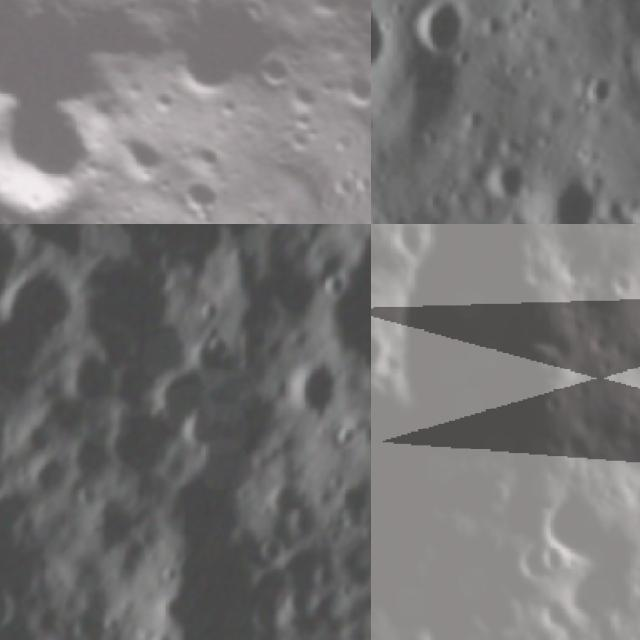crater: (0, 69, 125, 224), (302, 224, 371, 451), (82, 393, 198, 498), (0, 248, 99, 368), (156, 15, 262, 120), (0, 474, 70, 623), (130, 346, 226, 438), (270, 344, 358, 435), (42, 332, 130, 421), (541, 485, 626, 573), (250, 250, 335, 336), (74, 482, 158, 565), (104, 118, 178, 192), (270, 532, 342, 606), (19, 442, 90, 509), (403, 0, 472, 66), (543, 165, 612, 224), (258, 466, 318, 528), (162, 169, 221, 224), (476, 153, 532, 210), (179, 130, 232, 182), (250, 43, 303, 95), (329, 56, 371, 121), (309, 259, 360, 308), (0, 569, 33, 640), (383, 224, 434, 268), (574, 68, 622, 112), (371, 0, 394, 89), (371, 316, 401, 380), (252, 524, 292, 570), (328, 415, 369, 458), (623, 2, 640, 95), (360, 0, 371, 74), (489, 211, 535, 224), (626, 190, 640, 224)
